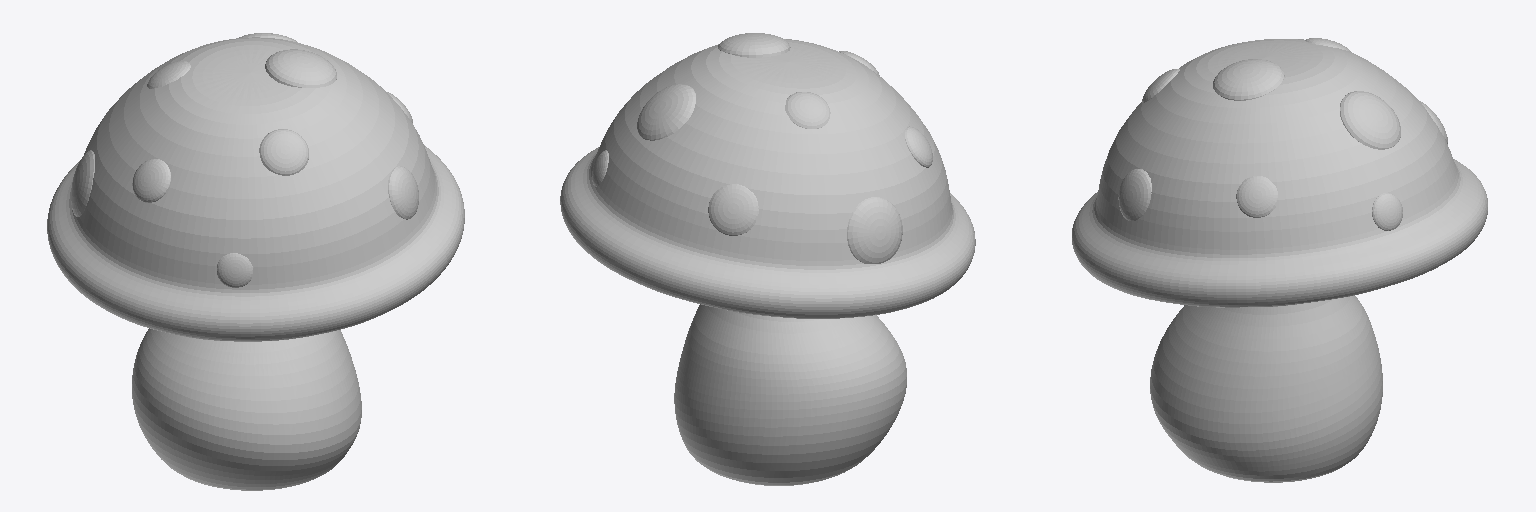
Rendered from Mushroom.obj.
The picture shows the model from 3 angles: view 1: azimuth 30°, elevation 25°; view 2: azimuth 150°, elevation 25°; view 3: azimuth 270°, elevation 25°; orthographic projection.
Parts seen in each view (by area): view 1: Mushroom_Cylinder.001; view 2: Mushroom_Cylinder.001; view 3: Mushroom_Cylinder.001.
Part boxes in pixels (left/top/right/bottom): Mushroom_Cylinder.001: left=47, top=33, right=464, bottom=490; Mushroom_Cylinder.001: left=560, top=33, right=975, bottom=485; Mushroom_Cylinder.001: left=1072, top=38, right=1487, bottom=482.
Bounding box in the file's own units: 4.52 × 4.84 × 4.52.